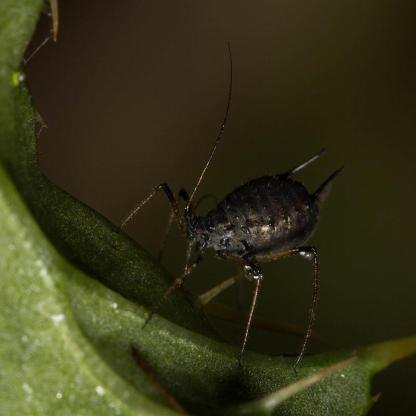aphid: (129, 132, 354, 358)
